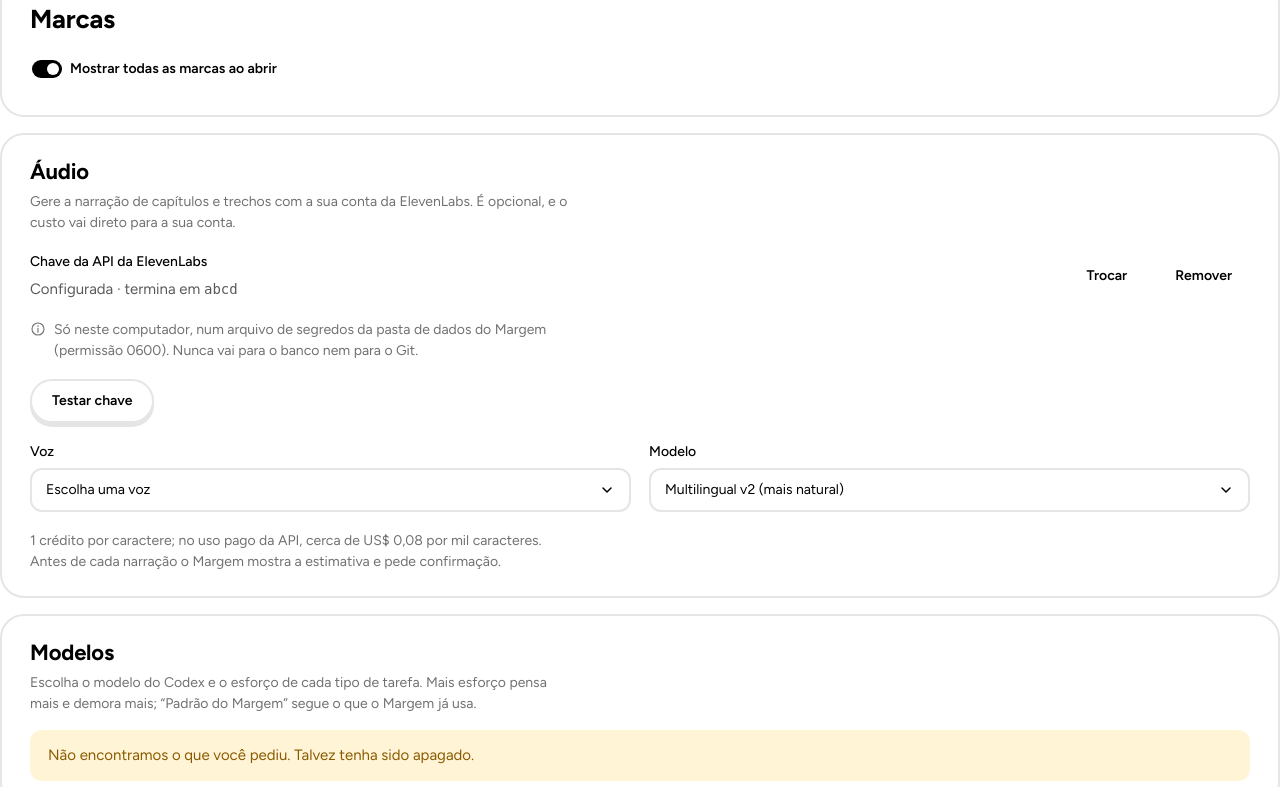
Test: Configurações → Áudio › testar chave: sucesso com saldo e erro com a frase do servidor
(page scrolled)
Step 1. Click the button "Testar chave" → (92, 401), box x1=30 y1=379 x2=154 y2=423
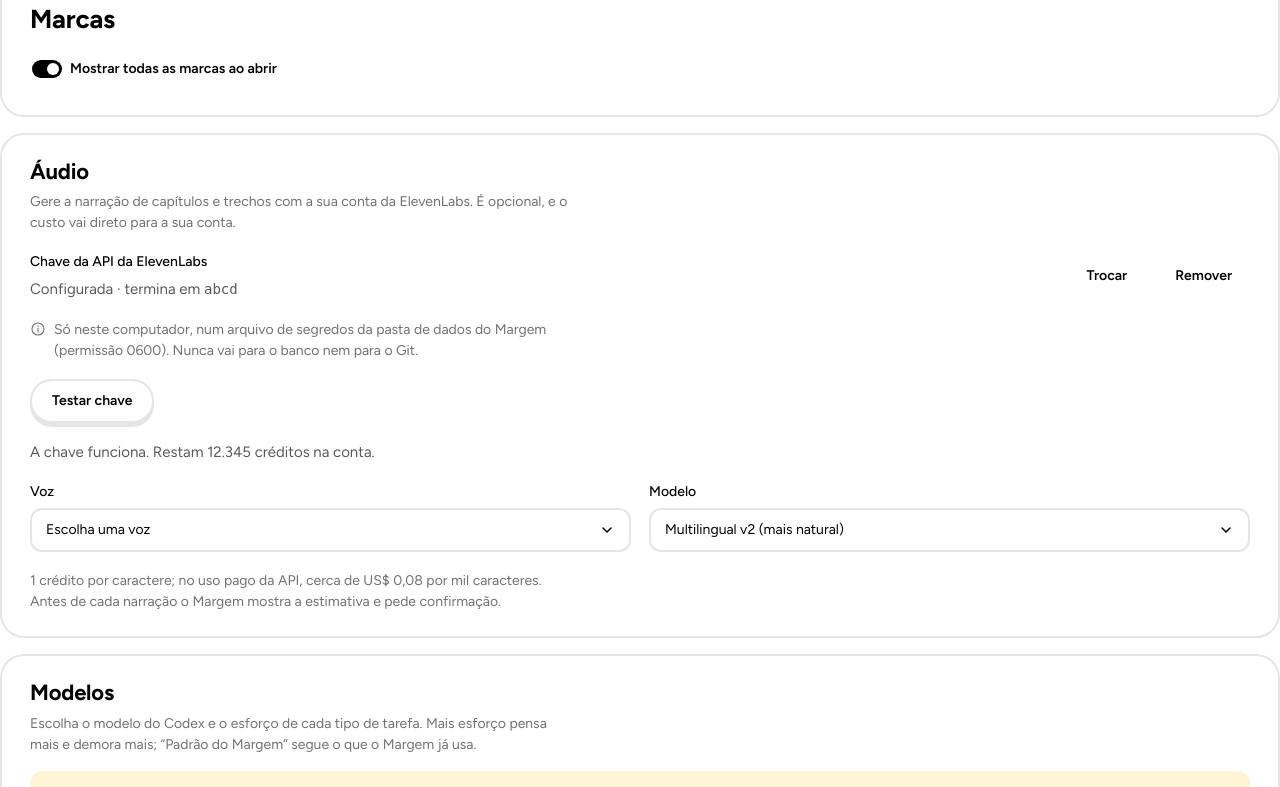
Expected: the message shows "Restam 12.345 créditos", x1=30 y1=443 x2=375 y2=461
Step 2. Click the button "Testar chave" → (92, 401), box x1=30 y1=379 x2=154 y2=423
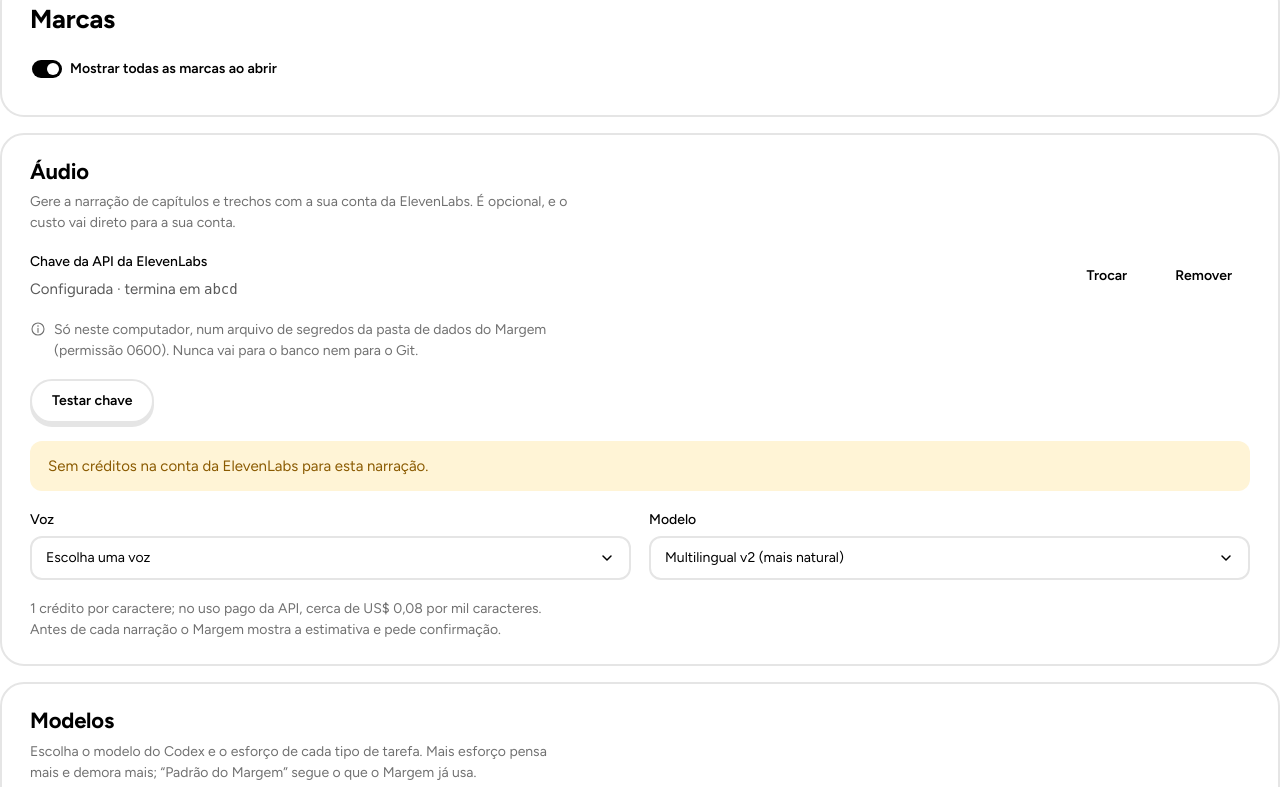
Expected: the message shows "Sem créditos", x1=48 y1=457 x2=428 y2=475
